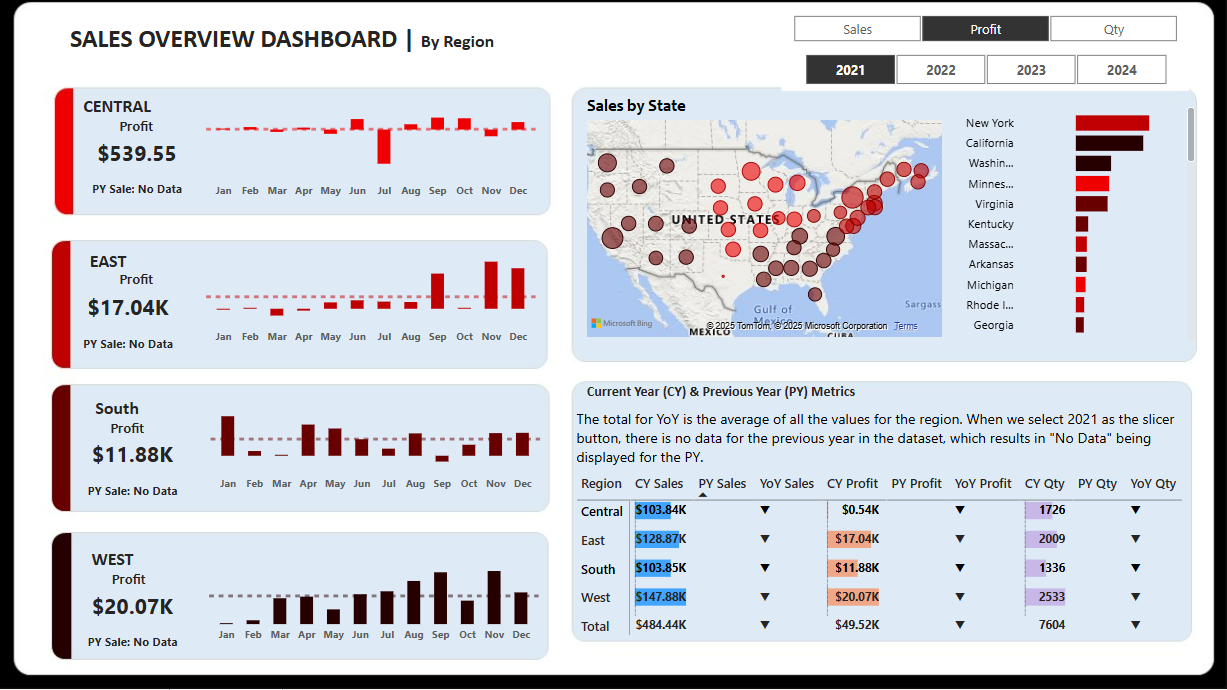

The dashboard page shown, as its layout file describes it:
{"tool":"powerbi","page":{"name":"Page 1","canvas":[1280,720],"ordinal":0},"visuals":[{"type":"slicer","fields":{"Values":["Select Metric.Select Metric"]},"box":[804.3,12.5,448.2,40.6],"z":0},{"type":"card","fields":{"Values":["Sales Data.Total Sales"]},"box":[68.7,140.6,156.2,45.3],"z":1000},{"type":"textbox","box":[79.7,96.8,90.6,43.7],"z":2000},{"type":"slicer","fields":{"Values":["Calendar Table.Year"]},"box":[817,52.5,424.4,44.5],"z":3000},{"type":"card","fields":{"Values":["Sales Data.Dynamic Title"]},"box":[79.7,118.7,132.8,35.9],"z":4000},{"type":"card","fields":{"Values":["Sales Data.PY KPI Sales"]},"box":[79.7,185.9,132.8,32.8],"z":5000},{"type":"clusteredColumnChart","fields":{"Y":["Sales Data.Total Sales"],"Category":["Calendar Table.Month"]},"box":[212.4,106.2,354.5,112.5],"z":6000},{"type":"textbox","box":[32.8,21.9,534.1,48.4],"z":7000},{"type":"card","fields":{"Values":["Sales Data.Total Sales"]},"box":[60,301.5,156.2,45.3],"z":8000},{"type":"textbox","box":[70.9,257.8,90.6,43.7],"z":9000},{"type":"card","fields":{"Values":["Sales Data.PY KPI Sales"]},"box":[70.9,346.8,132.8,32.8],"z":10000},{"type":"clusteredColumnChart","fields":{"Y":["Sales Data.Total Sales"],"Category":["Calendar Table.Month"]},"box":[212.4,257.7,354.5,112.5],"z":11000},{"type":"card","fields":{"Values":["Sales Data.Total Sales"]},"box":[64.8,455.2,156.2,45.3],"z":12000},{"type":"textbox","box":[79.7,410.8,90.6,43.7],"z":13000},{"type":"card","fields":{"Values":["Sales Data.PY KPI Sales"]},"box":[75.7,500.5,132.8,32.8],"z":14000},{"type":"clusteredColumnChart","fields":{"Y":["Sales Data.Total Sales"],"Category":["Calendar Table.Month"]},"box":[217.2,411.4,354.5,112.5],"z":15000},{"type":"card","fields":{"Values":["Sales Data.Total Sales"]},"box":[63.7,612.5,156.2,45.3],"z":16000},{"type":"textbox","box":[74.7,568.7,90.6,43.7],"z":17000},{"type":"card","fields":{"Values":["Sales Data.PY KPI Sales"]},"box":[74.7,657.7,132.8,32.8],"z":18000},{"type":"clusteredColumnChart","fields":{"Y":["Sales Data.Total Sales"],"Category":["Calendar Table.Month"]},"box":[216.2,568.6,354.5,112.5],"z":19000},{"type":"card","fields":{"Values":["Sales Data.Dynamic Title"]},"box":[79.7,278,132.8,35.9],"z":20000},{"type":"card","fields":{"Values":["Sales Data.Dynamic Title"]},"box":[70.3,432.6,132.8,35.9],"z":21000},{"type":"card","fields":{"Values":["Sales Data.Dynamic Title"]},"box":[71.8,589.6,132.3,35.9],"z":22000},{"type":"map","title":"Sales by State","fields":{"Size":["Sales Data.Total Sales"],"Category":["Sales Data.State/Province"],"Series":["Sales Data.Region"]},"box":[609.1,101.5,379.5,257.7],"z":23000},{"type":"barChart","fields":{"Y":["Sales Data.Total Sales"],"Category":["Sales Data.State/Province"],"Series":["Sales Data.Region"]},"box":[988.6,101.5,263.9,262.4],"z":24000},{"type":"pivotTable","fields":{"Rows":["Sales Data.Region"],"Values":["Sales Data.CY Sales","Sales Data.PY Sales","Sales Data.YoY Sales","Sales Data.CY Profit","Sales Data.PY Profit","Sales Data.YoY Profit","Sales Data.CY Qty","Sales Data.PY Qty","Sales Data.YoY Qty"]},"box":[598.2,490.4,643.5,190.5],"z":25000},{"type":"textbox","box":[609.1,395.1,299.9,37.5],"z":25001},{"type":"textbox","box":[598.2,423.3,654.4,76.5],"z":25002}]}

Visuals, with their boxes in screenshot pixels (x1, y1, x2, y2), scaled from the page's 1280x720 canvas onto the 1227x690 screenshot:
slicer - Select Metric.Select Metric: locate(771, 12, 1201, 51)
card - Sales Data.Total Sales: locate(66, 135, 216, 178)
textbox: locate(76, 93, 163, 135)
slicer - Calendar Table.Year: locate(783, 50, 1190, 93)
card - Sales Data.Dynamic Title: locate(76, 114, 204, 148)
card - Sales Data.PY KPI Sales: locate(76, 178, 204, 210)
clusteredColumnChart - Sales Data.Total Sales x Calendar Table.Month: locate(204, 102, 543, 210)
textbox: locate(31, 21, 543, 67)
card - Sales Data.Total Sales: locate(58, 289, 207, 332)
textbox: locate(68, 247, 155, 289)
card - Sales Data.PY KPI Sales: locate(68, 332, 195, 364)
clusteredColumnChart - Sales Data.Total Sales x Calendar Table.Month: locate(204, 247, 543, 355)
card - Sales Data.Total Sales: locate(62, 436, 212, 480)
textbox: locate(76, 394, 163, 436)
card - Sales Data.PY KPI Sales: locate(73, 480, 200, 511)
clusteredColumnChart - Sales Data.Total Sales x Calendar Table.Month: locate(208, 394, 548, 502)
card - Sales Data.Total Sales: locate(61, 587, 211, 630)
textbox: locate(72, 545, 158, 587)
card - Sales Data.PY KPI Sales: locate(72, 630, 199, 662)
clusteredColumnChart - Sales Data.Total Sales x Calendar Table.Month: locate(207, 545, 547, 653)
card - Sales Data.Dynamic Title: locate(76, 266, 204, 301)
card - Sales Data.Dynamic Title: locate(67, 415, 195, 449)
card - Sales Data.Dynamic Title: locate(69, 565, 196, 599)
"Sales by State" map: locate(584, 97, 948, 344)
barChart - Sales Data.Total Sales x Sales Data.State/Province: locate(948, 97, 1201, 349)
pivotTable - Sales Data.Region x Sales Data.CY Sales: locate(573, 470, 1190, 653)
textbox: locate(584, 379, 871, 415)
textbox: locate(573, 406, 1201, 479)
